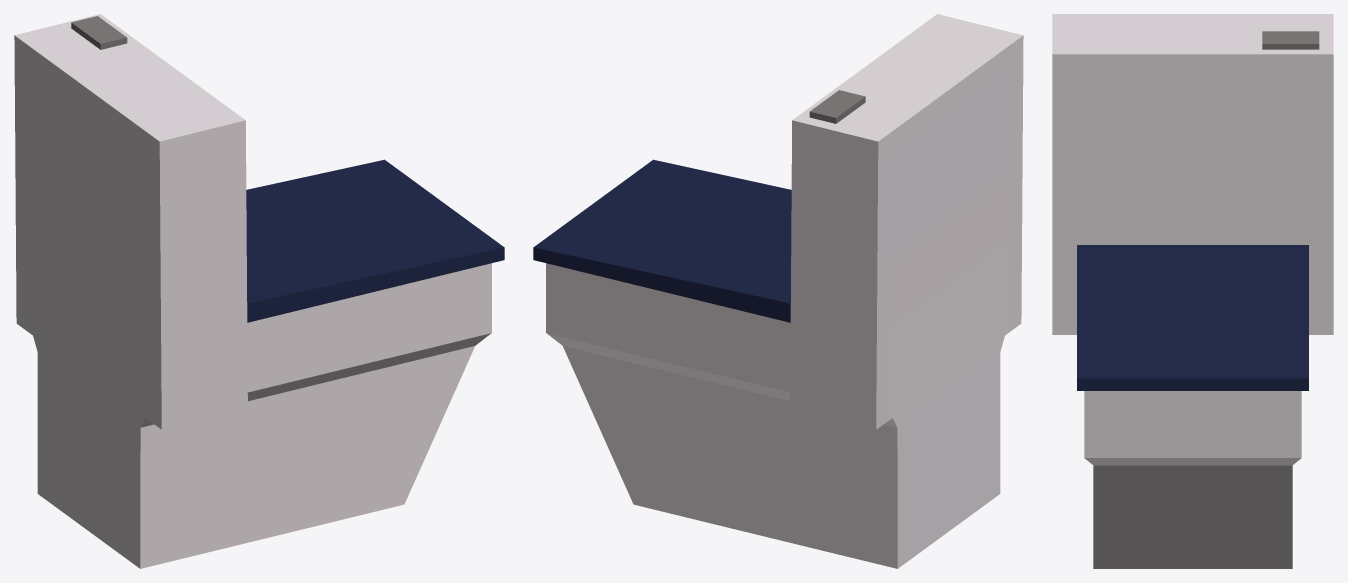
Rendered from toilet2.fbx.
3 renders of one model, left to right at view 1: azimuth 30°, elevation 25°; view 2: azimuth 150°, elevation 25°; view 3: azimuth 270°, elevation 25°, orthographic. The views are drawn at different scales.
Parts seen in each view (by area): view 1: toilet2; view 2: toilet2; view 3: toilet2.
Boxes of the visible parts, <box> form: toilet2: <box>14,14,504,568</box>; toilet2: <box>533,14,1023,568</box>; toilet2: <box>1052,14,1333,568</box>.
Bounding box in the file's own units: 60.63 × 86.17 × 104.
